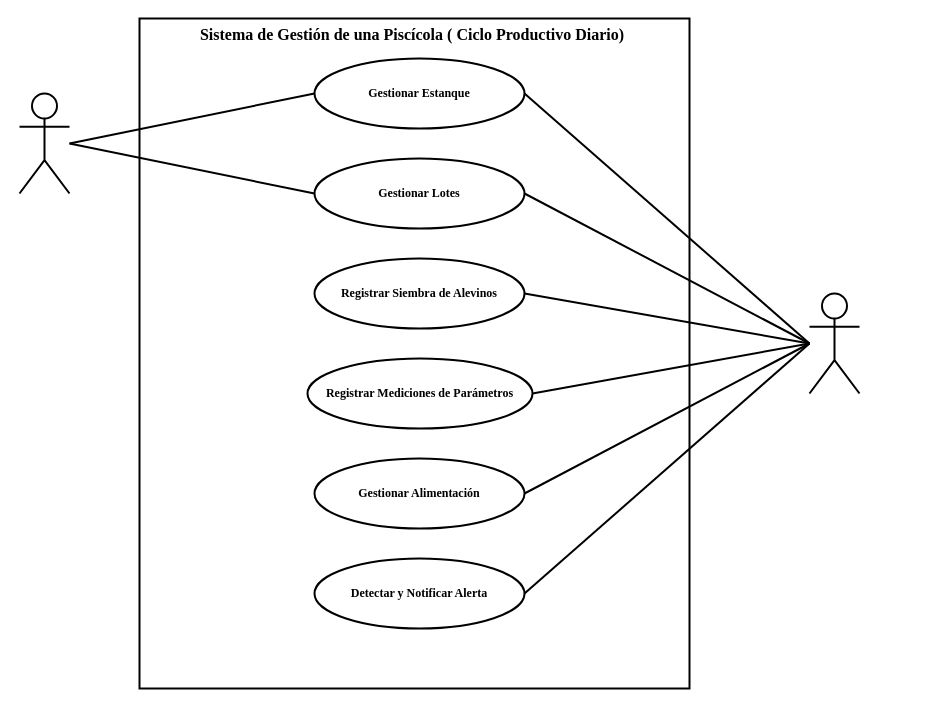
The diagram is 926 pixels wide and 706 high, and some of its shapes have lost their labels. The shapes that lost their labels are listed below. From the top down, each one's centre as x and y in pixels, then its label:
At (x=44, y=143): "Piscicultor".
At (x=834, y=343): "Encargado de la Estación".
